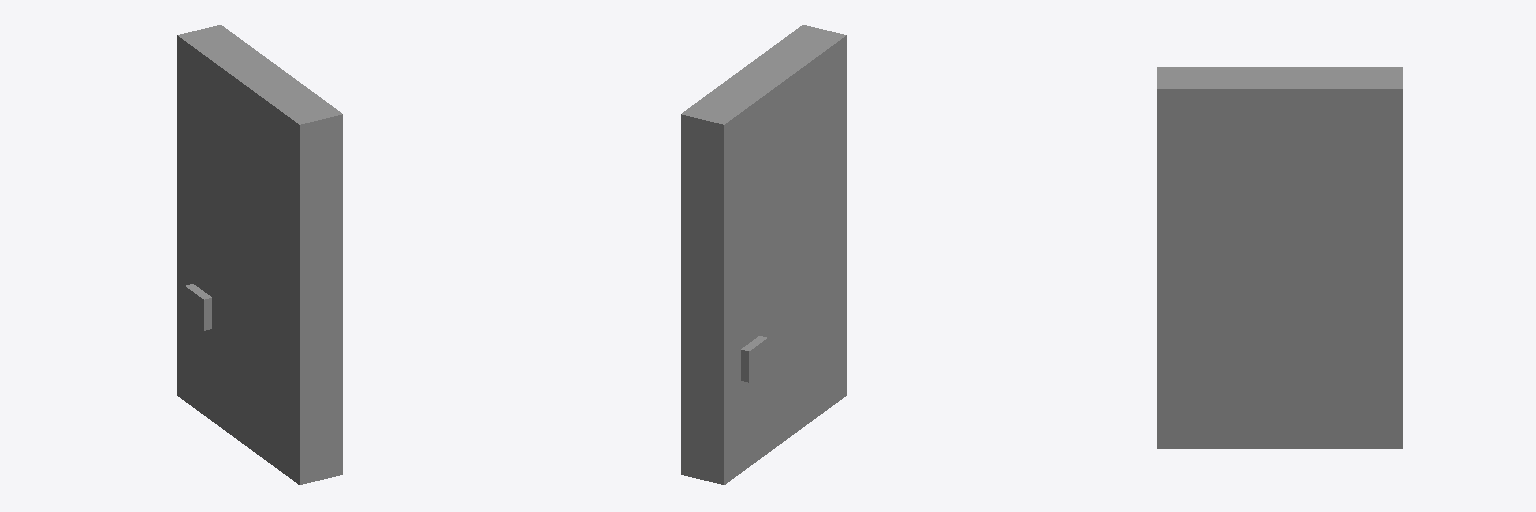
File: Keypad-Door.obj
3 views of the same model, side by side, from view 1: azimuth 30°, elevation 25°; view 2: azimuth 150°, elevation 25°; view 3: azimuth 270°, elevation 25° (orthographic).
Visible parts, largest first — view 1: Cube.154_Cube.222, Cube.153_Cube.221; view 2: Cube.154_Cube.222, Cube.153_Cube.221; view 3: Cube.154_Cube.222.
Part boxes in pixels (x1,y1,x2,y2): Cube.154_Cube.222: (177,25,342,484); Cube.153_Cube.221: (185,284,211,330); Cube.154_Cube.222: (681,25,846,484); Cube.153_Cube.221: (741,336,767,382); Cube.154_Cube.222: (1157,67,1402,448).
Size of the model in its own units: 0.1444 by 0.9497 by 0.5851.